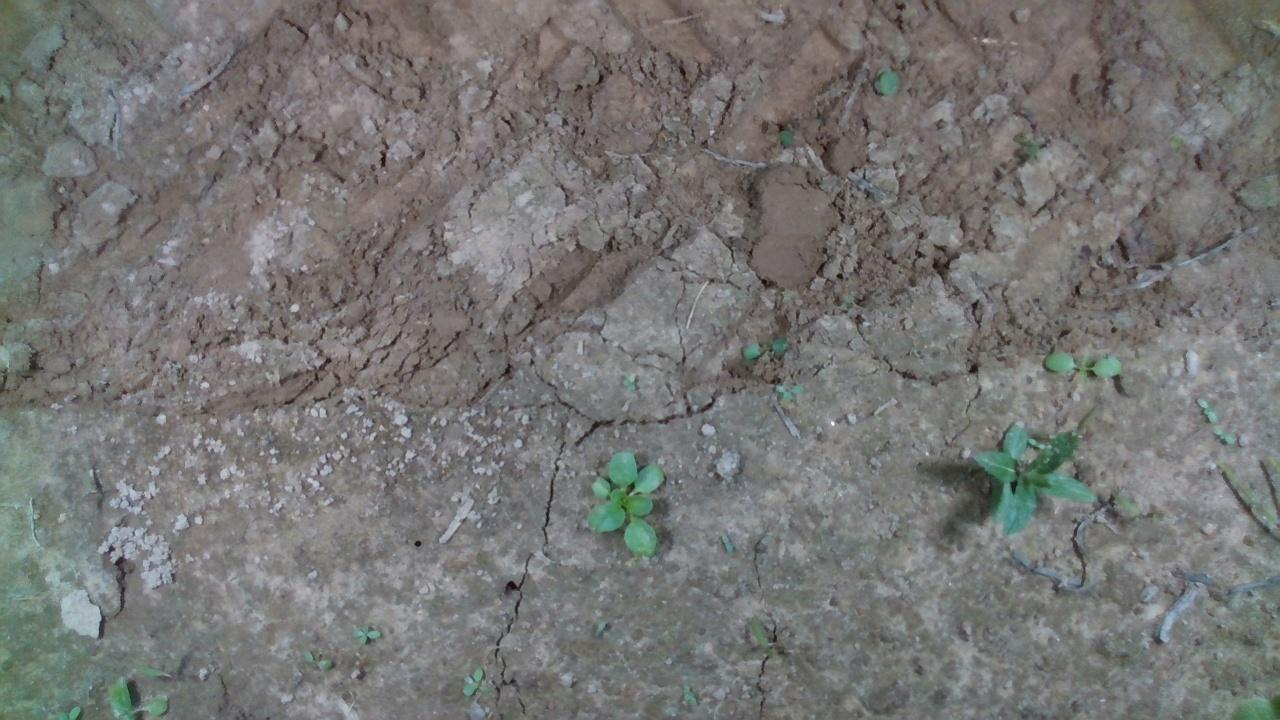weed: (1040, 347, 1123, 382), (458, 666, 491, 696), (350, 620, 383, 645), (299, 646, 332, 670), (1194, 394, 1218, 424), (1211, 423, 1236, 445)
